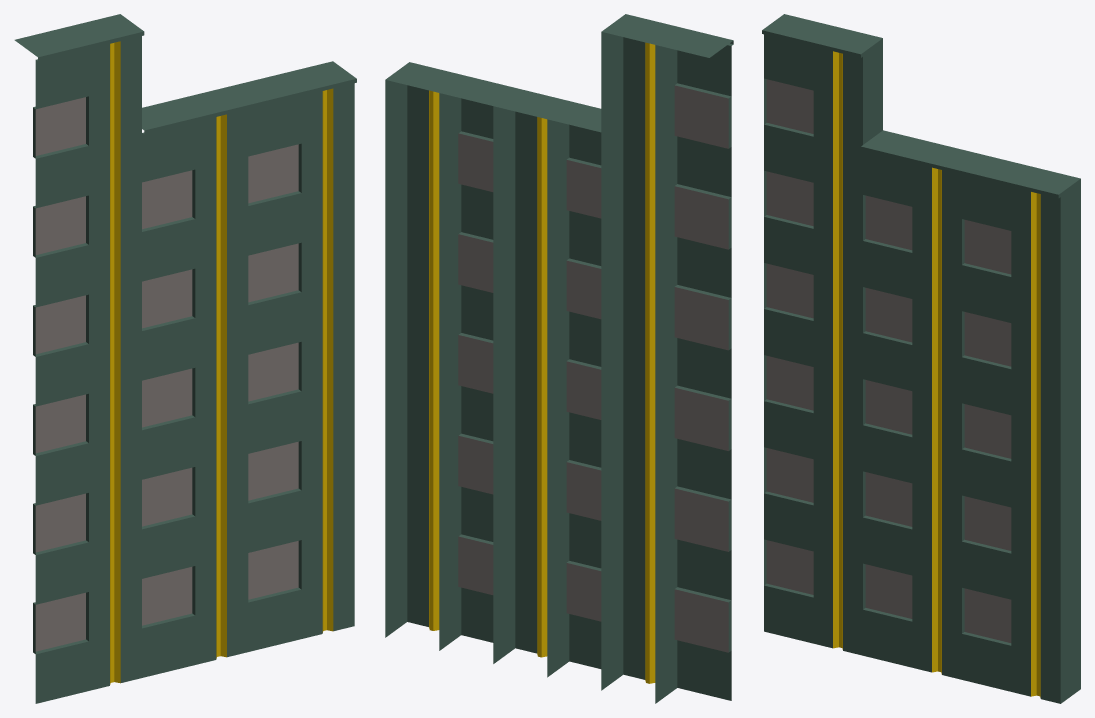
3 views of the same model, side by side, from view 1: azimuth 30°, elevation 25°; view 2: azimuth 150°, elevation 25°; view 3: azimuth 330°, elevation 25° (orthographic). The views are drawn at different scales.
Visible parts, largest first — view 1: Pared.Win.x4.016; view 2: Pared.Win.x4.016; view 3: Pared.Win.x4.016.
Boxes of the visible parts, box(x1,y1,x2,y2) form: Pared.Win.x4.016: box(14, 14, 356, 703); Pared.Win.x4.016: box(385, 14, 733, 703); Pared.Win.x4.016: box(762, 14, 1080, 703).
Bounding box in the file's own units: 1671 × 3245 × 217.
